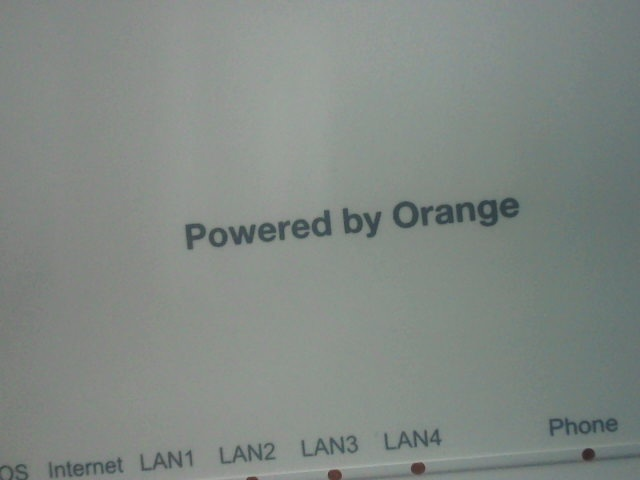AS_PowerByOrange: (165, 189, 526, 248)
